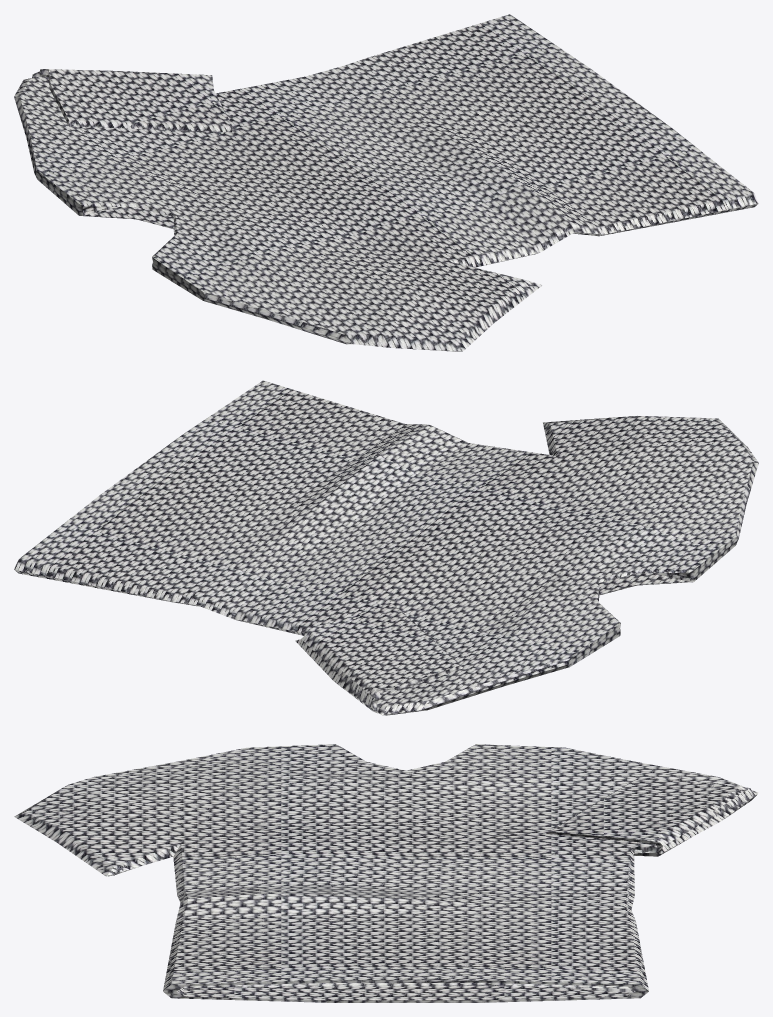
The model's file is camiseta2_2.fbx.
3 renders of one model, top to bottom at view 1: azimuth 30°, elevation 25°; view 2: azimuth 150°, elevation 25°; view 3: azimuth 270°, elevation 25°, orthographic. The views are drawn at different scales.
Visible parts, largest first — view 1: shirt3:Mesh; view 2: shirt3:Mesh; view 3: shirt3:Mesh.
Part boxes in pixels (bbox=[...]): shirt3:Mesh: bbox=[14, 14, 758, 351]; shirt3:Mesh: bbox=[14, 380, 758, 715]; shirt3:Mesh: bbox=[14, 744, 758, 1002].
Size of the model in its own units: 2.45 by 0.1279 by 3.18.
Materials: 1 (1 with a texture image).
